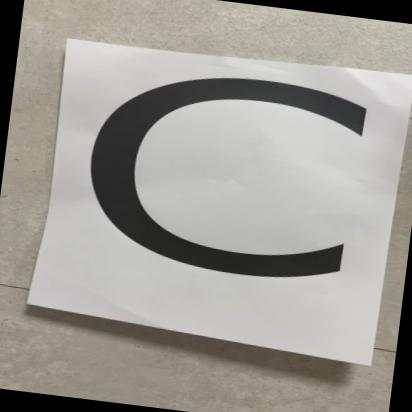seat: (20, 21, 412, 384)
